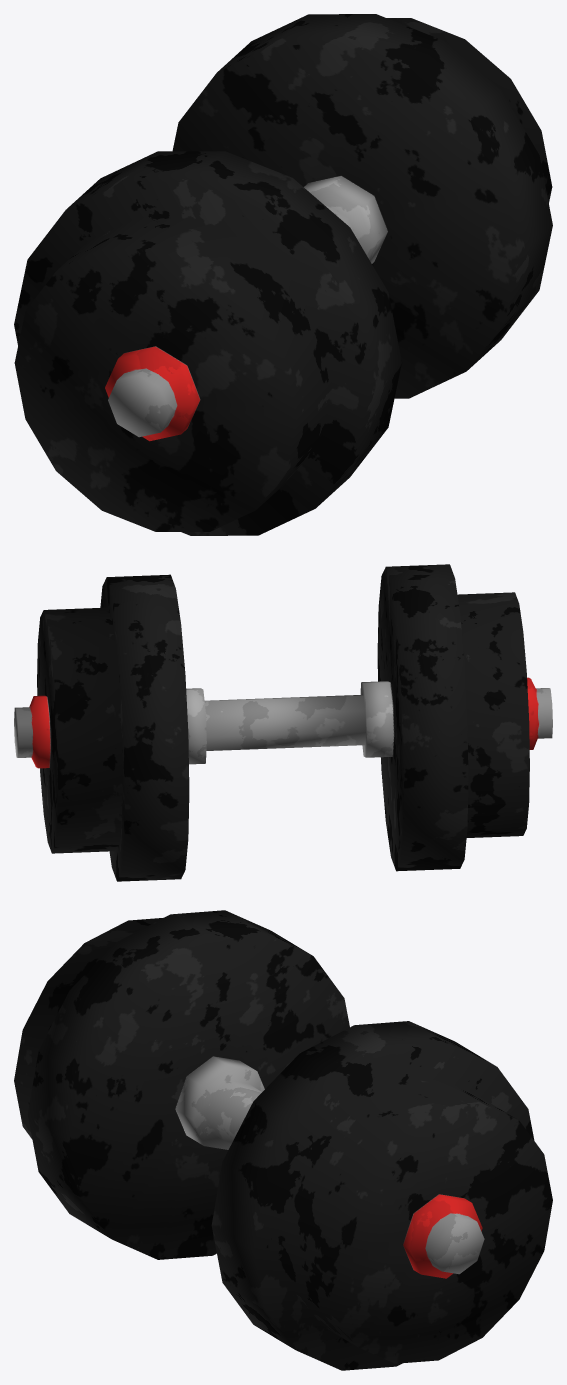
File: little_gym_stuff_-_dumbbell.glb
3 renders of one model, top to bottom at view 1: azimuth 30°, elevation 25°; view 2: azimuth 150°, elevation 25°; view 3: azimuth 270°, elevation 25°, orthographic. The views are drawn at different scales.
Visible parts, largest first — view 1: Little_Dumbbell; view 2: Little_Dumbbell; view 3: Little_Dumbbell.
Part boxes in pixels (left/top/right/bottom): Little_Dumbbell: left=14, top=14, right=552, bottom=535; Little_Dumbbell: left=14, top=564, right=552, bottom=881; Little_Dumbbell: left=14, top=910, right=552, bottom=1370.
Bounding box in the file's own units: 9.84 × 5.69 × 8.79.
Materials: 1 (1 with a texture image).
